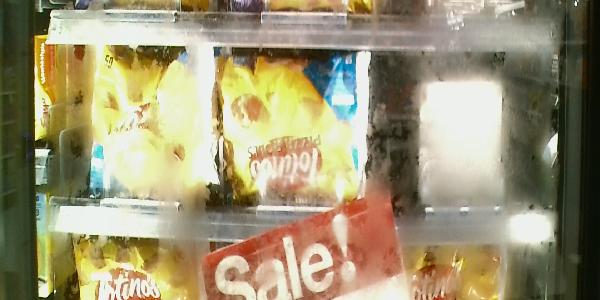icecream: (216, 45, 360, 208), (85, 46, 211, 208)
